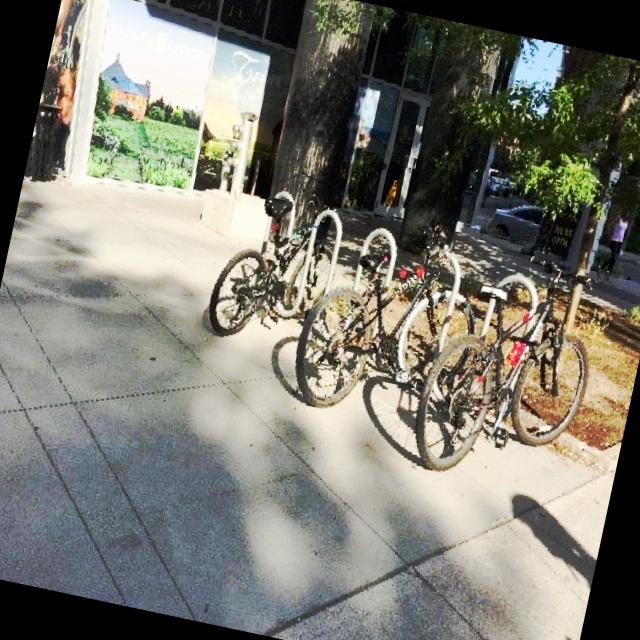bike: (408, 238, 610, 500), (286, 202, 494, 438), (202, 174, 350, 356)
